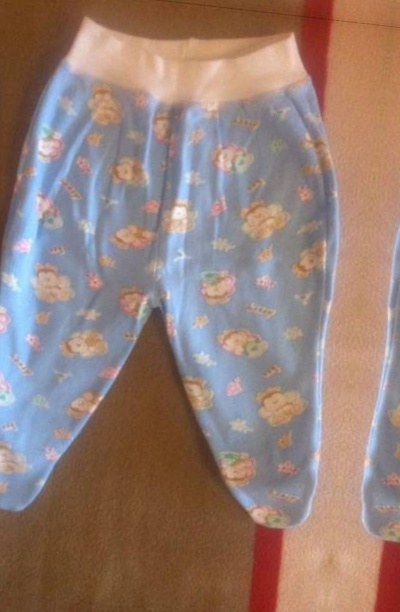Pants: (0, 4, 386, 556), (335, 47, 400, 598), (0, 0, 19, 514), (25, 0, 400, 6), (398, 0, 400, 48)
